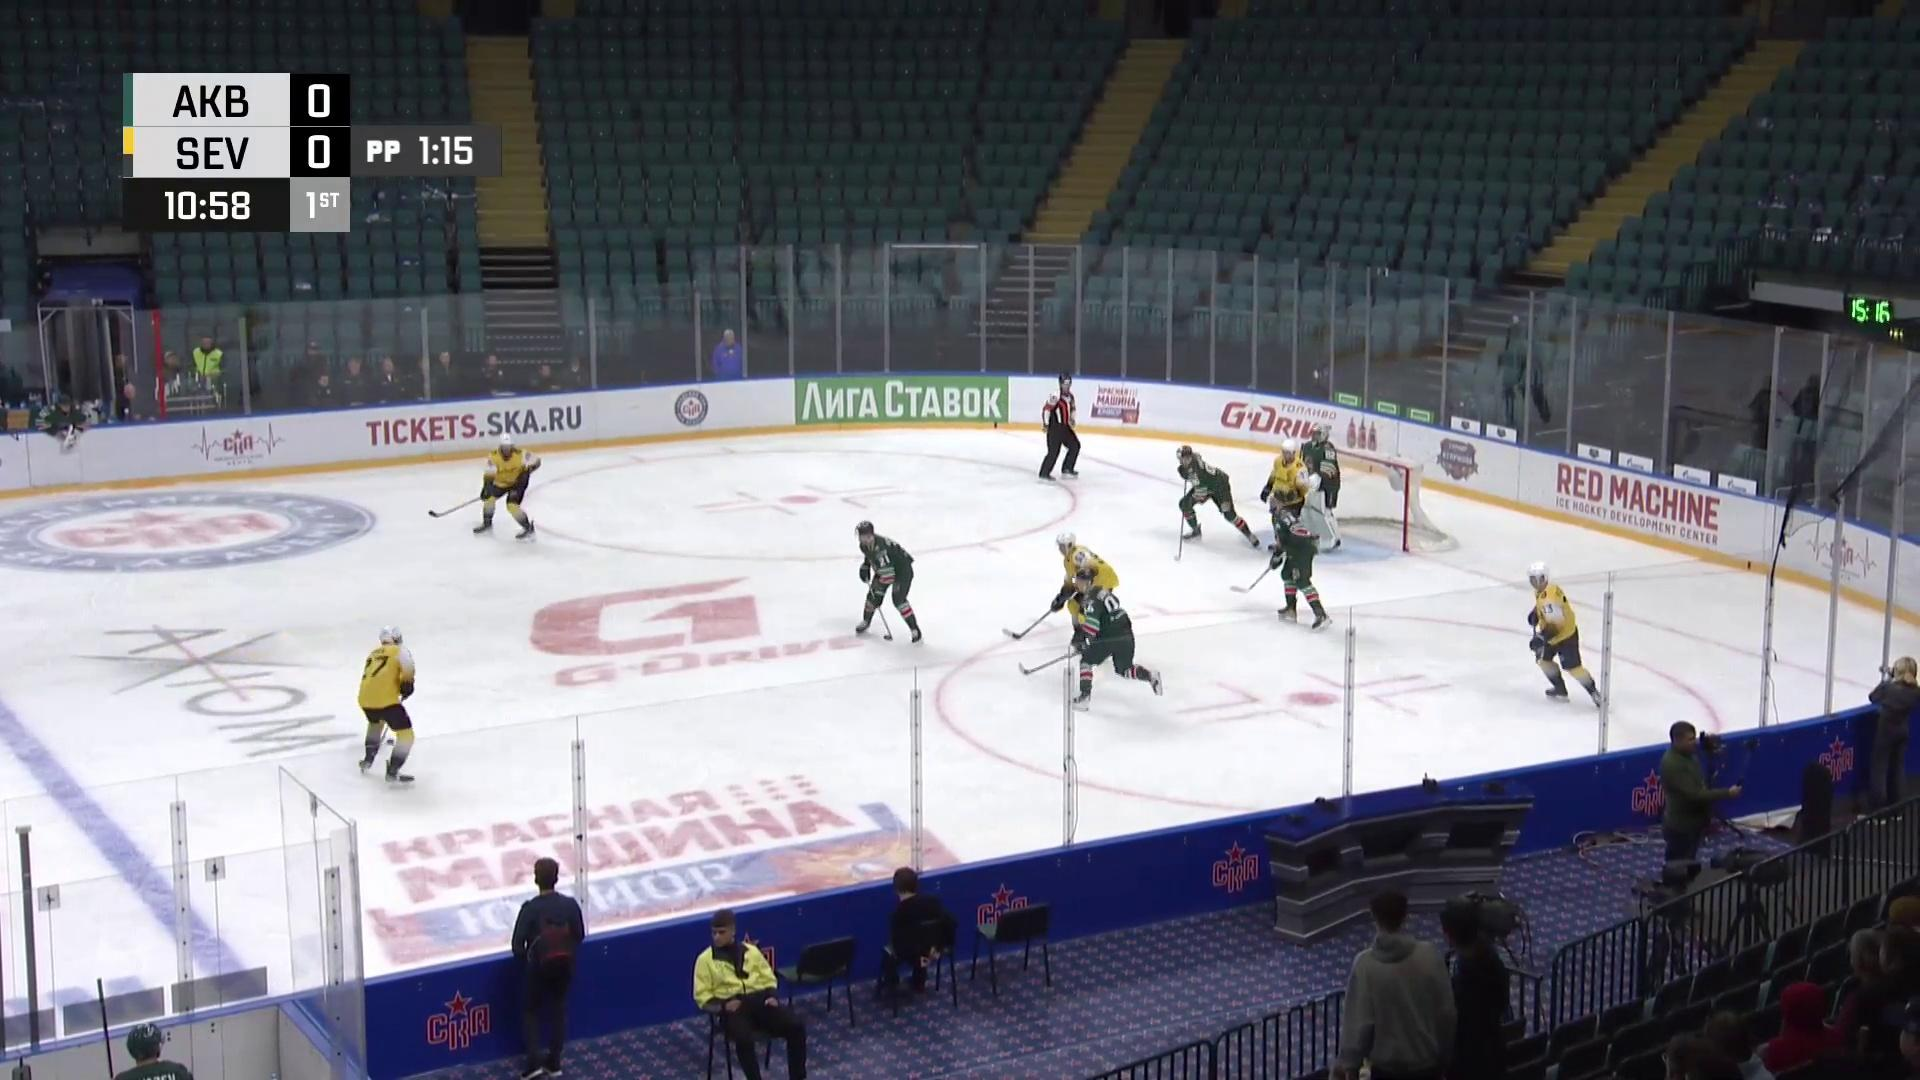ball: (386, 738, 394, 745)
